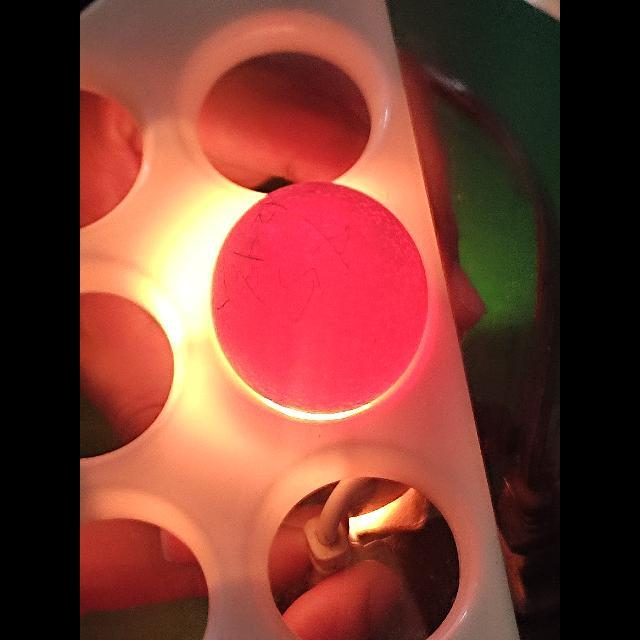Infertile: (208, 177, 428, 416)
